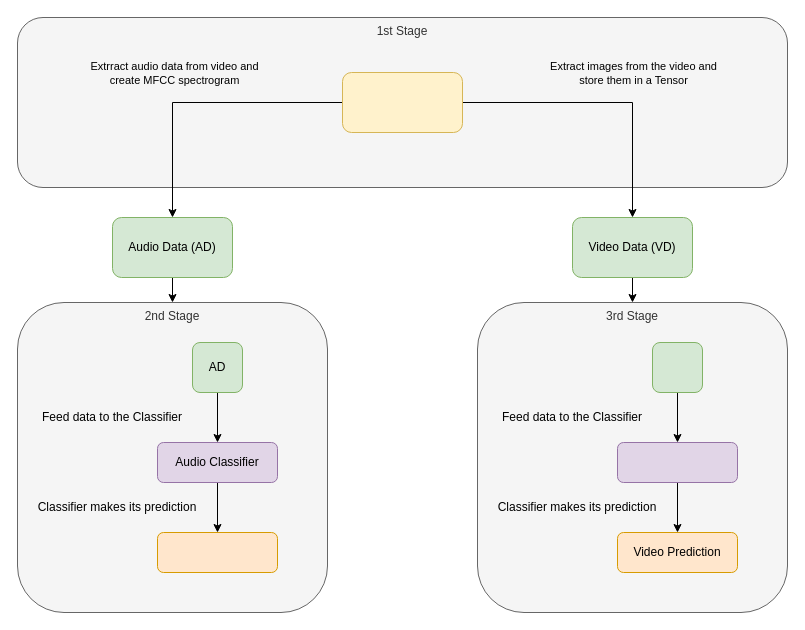
Some shapes in this 805 by 630 pixel diagram are drawn without their labels. Here are the shapes that lost their labels. From the top down, the centre of each, then its label:
point 402,102: Video
point 677,367: VD
point 677,462: Video Classifier
point 217,552: Audio Prediction
